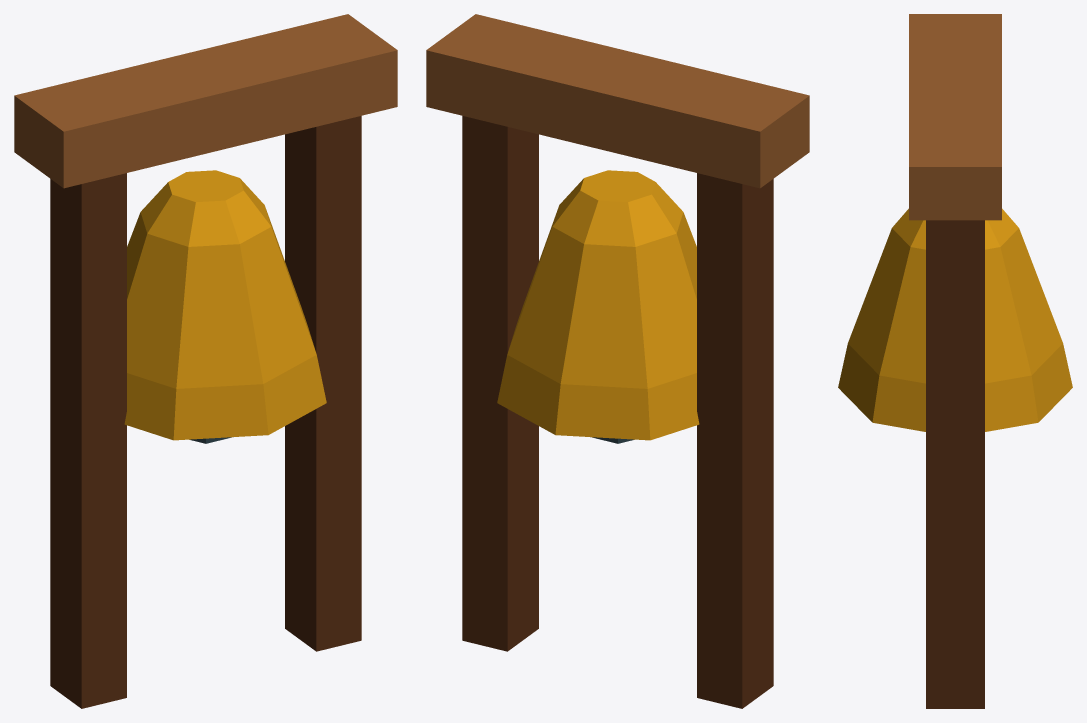
The model's file is bell.fbx.
3 renders of one model, left to right at view 1: azimuth 30°, elevation 25°; view 2: azimuth 150°, elevation 25°; view 3: azimuth 270°, elevation 25°, orthographic. The views are drawn at different scales.
Parts seen in each view (by area): view 1: bell; view 2: bell; view 3: bell.
Part boxes in pixels (x1=…): bell: x1=14, y1=14, x2=397, y2=708; bell: x1=426, y1=14, x2=809, y2=708; bell: x1=838, y1=14, x2=1072, y2=708.
Size of the model in its own units: 0.74 by 1.25 by 0.48.
